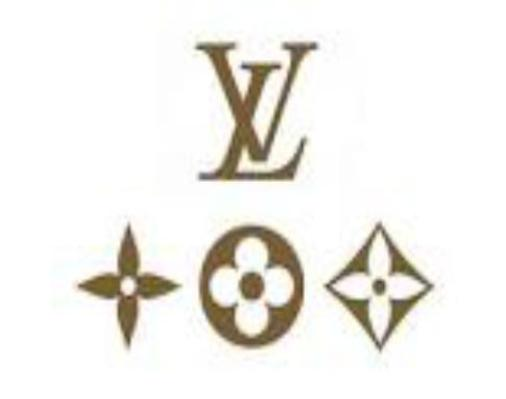LOUIS-VUITTON: (180, 39, 324, 195)
